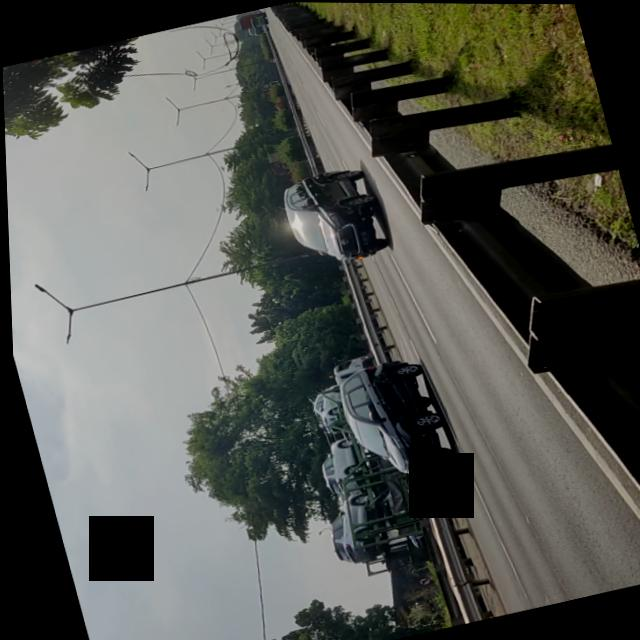Golongan I: (318, 348, 460, 488), (269, 158, 396, 274)
